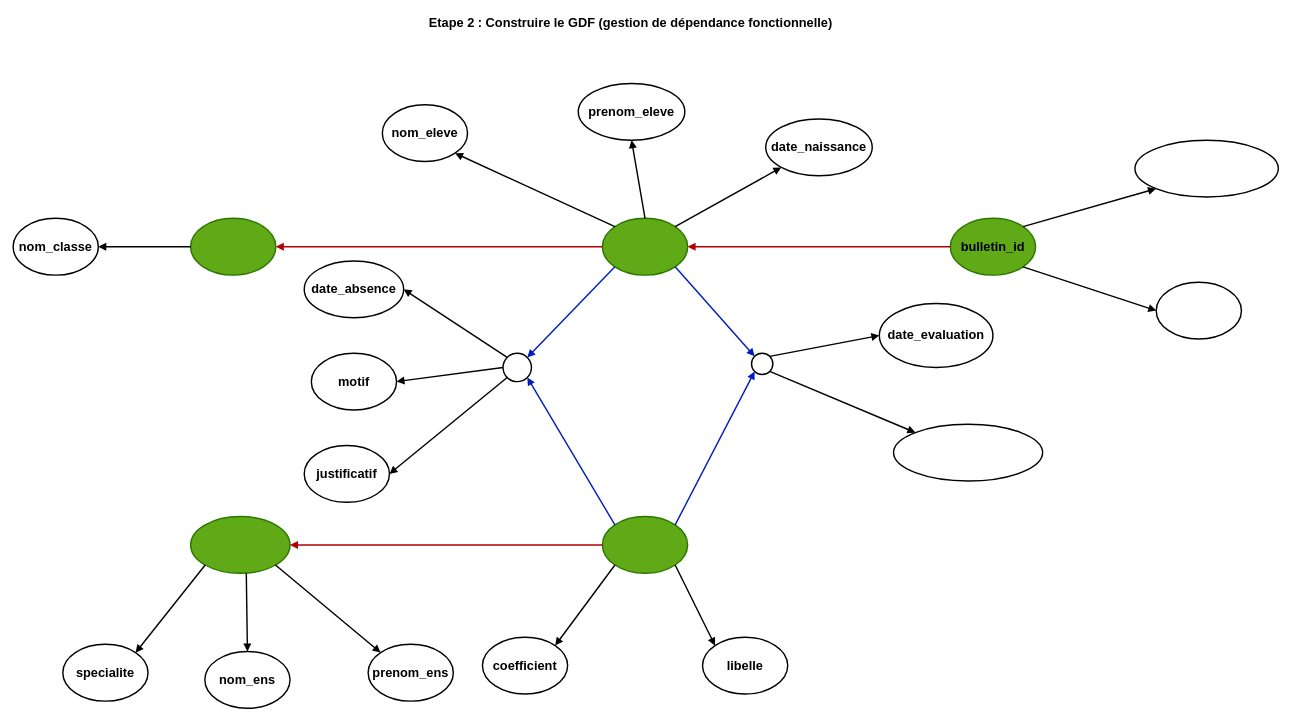
The diagram is 1291 pixels wide and 721 high, and some of its shapes have lost their labels. The centre of each missing label's shape, as x and y in pixels:
apreciation: pixel 1198 310
classe_id: pixel 233 246
matiere_id: pixel 644 544
matricule_eleve: pixel 644 246
matricule_ens: pixel 240 544
moyenne_generale: pixel 1206 168
note_composition: pixel 967 452
